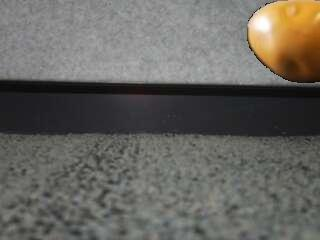Potato: (247, 0, 320, 83)
